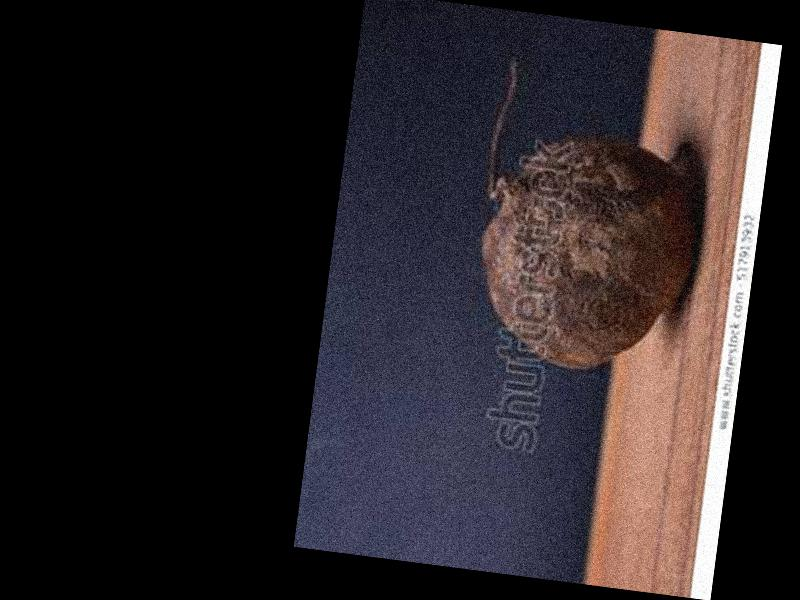Beet: (463, 52, 714, 380)
